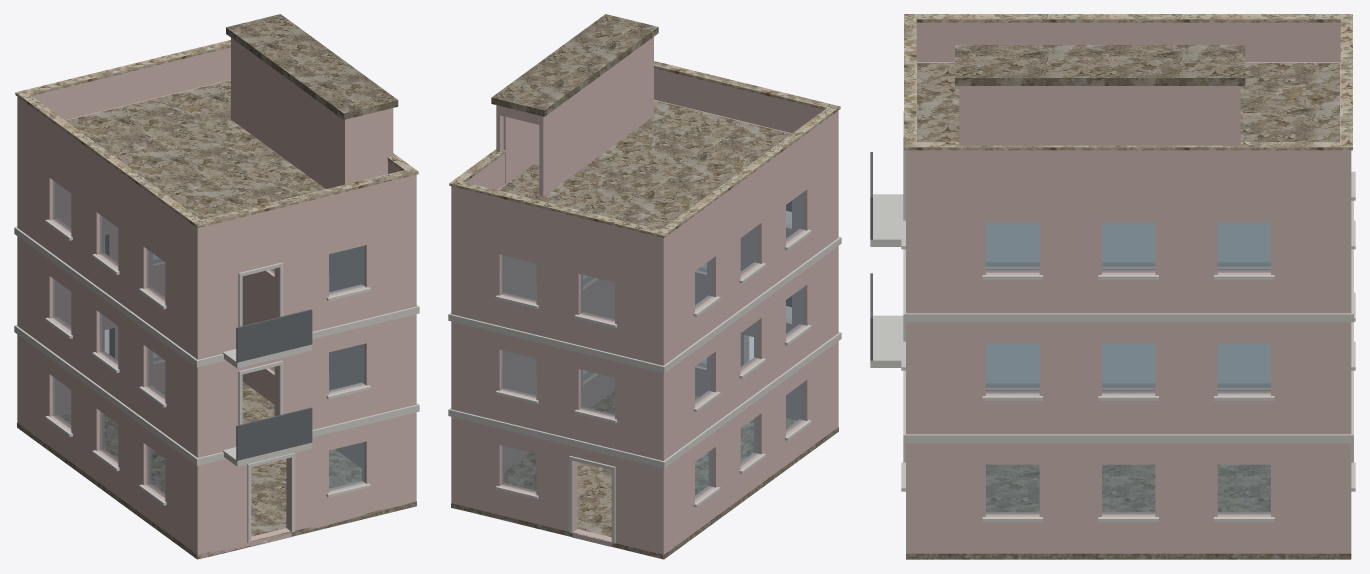
Rendered from bay-townhouse-pink.zfix-v9.lod1.glb.
The picture shows the model from 3 angles, left to right: view 1: azimuth 30°, elevation 25°; view 2: azimuth 150°, elevation 25°; view 3: azimuth 270°, elevation 25°; orthographic projection. The views are drawn at different scales.
Visible parts, largest first — view 1: bay-townhouse-pink; view 2: bay-townhouse-pink; view 3: bay-townhouse-pink.
Boxes of the visible parts, <box> form: bay-townhouse-pink: <box>14,14,419,559</box>; bay-townhouse-pink: <box>448,14,841,559</box>; bay-townhouse-pink: <box>870,14,1355,559</box>.
Bounding box in the file's own units: 7.2 × 11.96 × 10.9.
3 materials, 1 textured.
